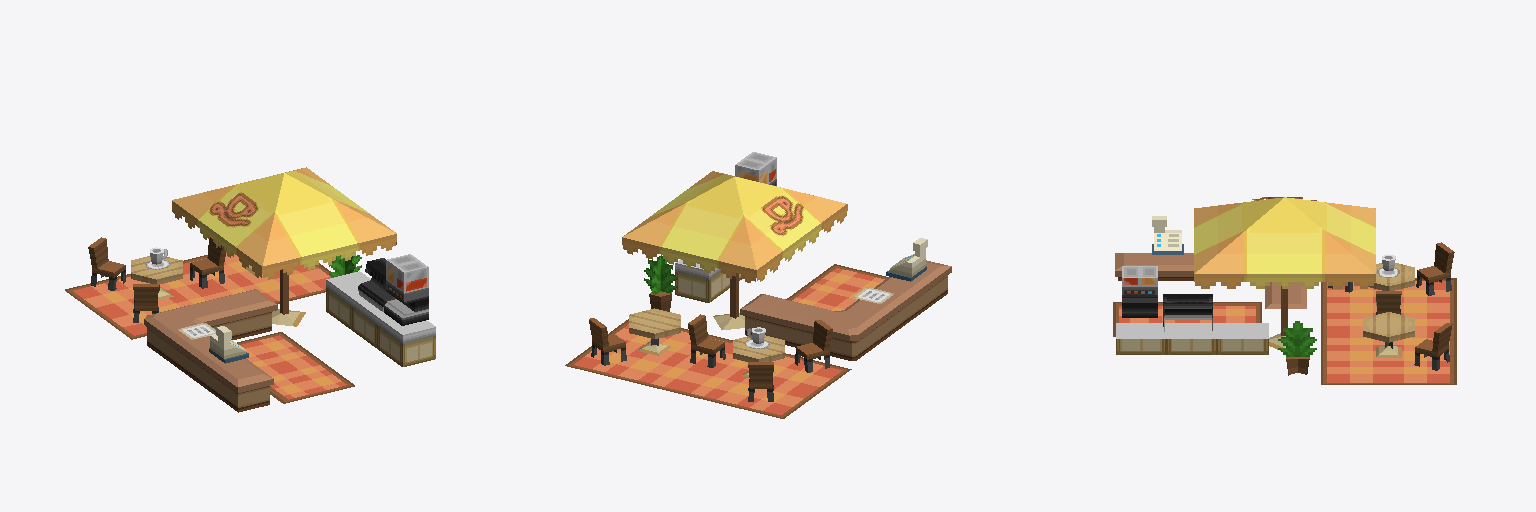
3 views of the same model, side by side, from view 1: azimuth 30°, elevation 25°; view 2: azimuth 150°, elevation 25°; view 3: azimuth 270°, elevation 25° (orthographic).
Parts seen in each view (by area): view 1: polygon0, polygon2; view 2: polygon0, polygon2; view 3: polygon0.
Boxes of the visible parts, x1=… form: polygon0: x1=65, y1=167, x2=435, y2=412; polygon2: x1=208, y1=191, x2=259, y2=227; polygon0: x1=565, y1=152, x2=951, y2=418; polygon2: x1=760, y1=195, x2=804, y2=236; polygon0: x1=1113, y1=197, x2=1456, y2=384.
Size of the model in its own units: 10.25 by 6.28 by 13.62.
3 materials, 3 textured.